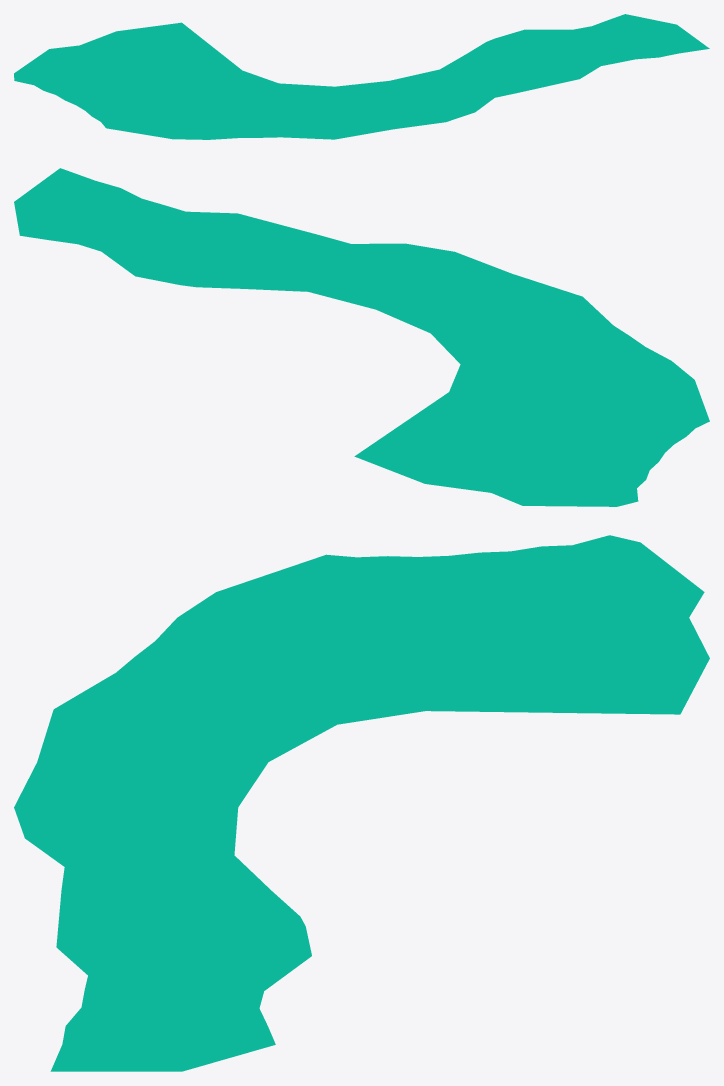
File: river.fbx
3 renders of one model, top to bottom at view 1: azimuth 30°, elevation 25°; view 2: azimuth 150°, elevation 25°; view 3: azimuth 270°, elevation 25°, orthographic. The views are drawn at different scales.
Visible parts, largest first — view 1: pPlane1; view 2: pPlane1; view 3: pPlane1.
Boxes of the visible parts, x1,y1,x2,y2 form: pPlane1: (14,14,709,139); pPlane1: (14,168,709,506); pPlane1: (14,535,709,1071).
Size of the model in its own units: 8.1 by 1.78e-15 by 4.44.
